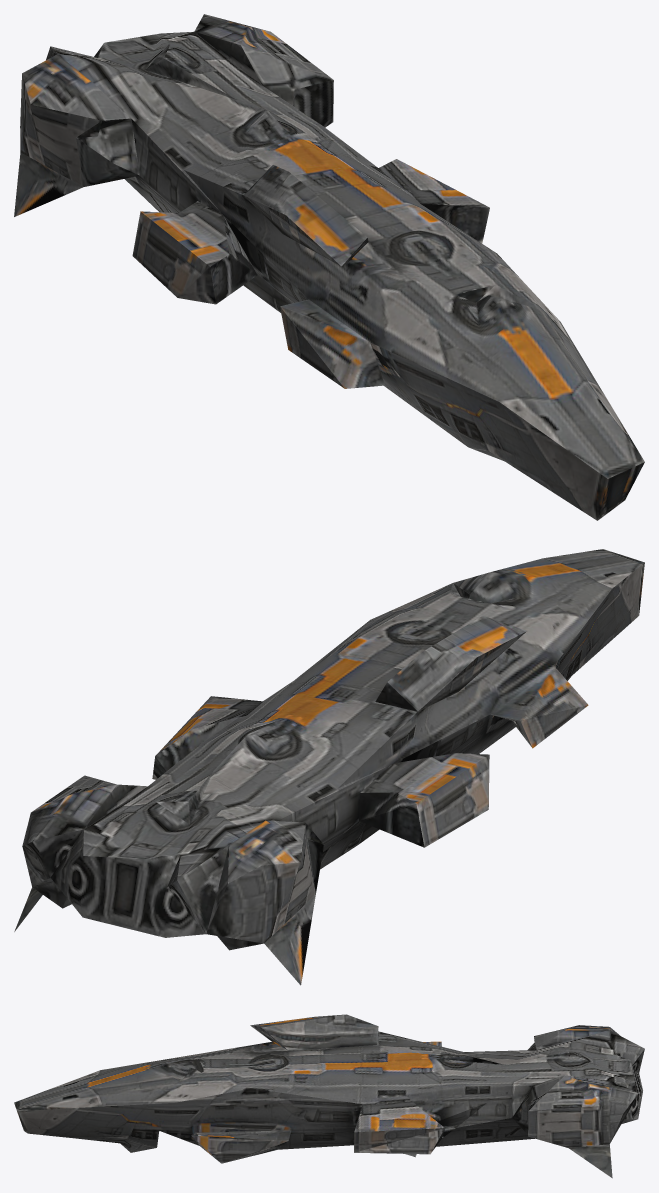
File: frigate-far.glb
3 views of the same model, one above another, from view 1: azimuth 30°, elevation 25°; view 2: azimuth 150°, elevation 25°; view 3: azimuth 270°, elevation 25° (orthographic). The views are drawn at different scales.
Visible parts, largest first — view 1: Low; view 2: Low; view 3: Low.
Boxes of the visible parts, box(x1,y1,x2,y2) form: Low: box(14, 14, 644, 520); Low: box(14, 549, 644, 985); Low: box(14, 1014, 644, 1178).
Bounding box in the file's own units: 0.6272 × 0.398 × 1.89.
1 material, 1 textured.
